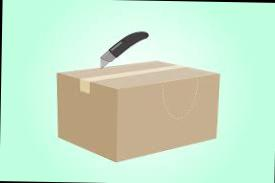cardboard: (45, 46, 228, 172)
